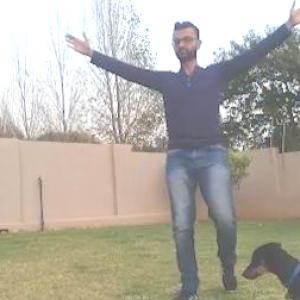takeoff: (51, 0, 300, 299)
